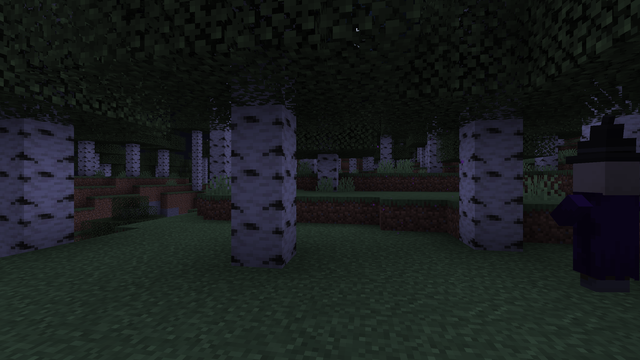sorcieres: (565, 155, 638, 298)
